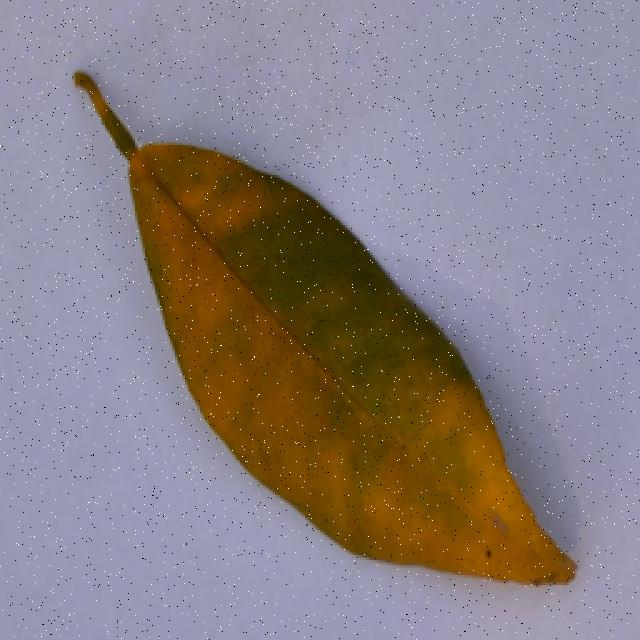greening: (53, 62, 585, 600)
